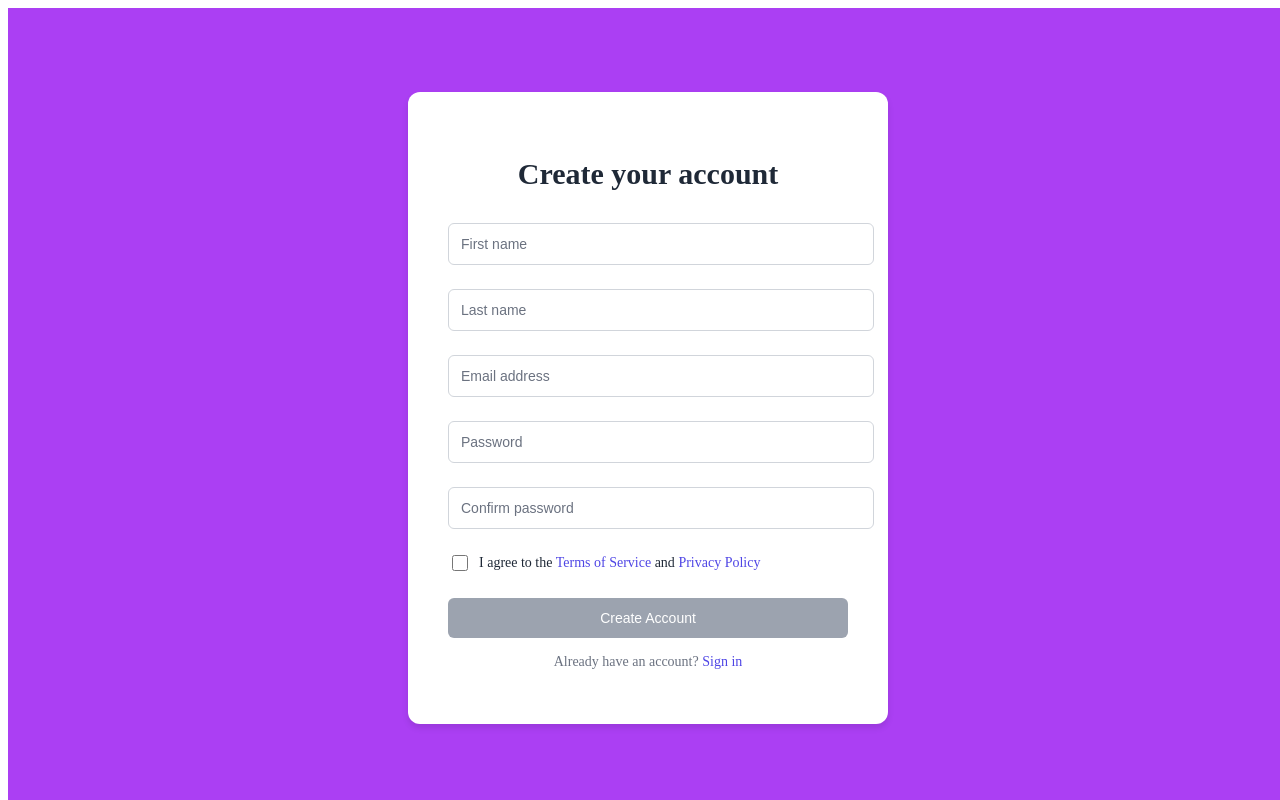
it: Testing -> SignupView › should show password mismatch error when passwords do not match
Set different passwords
Type "password123" into the password field named "password" at coordinates (661, 442), box [448, 421, 874, 463]
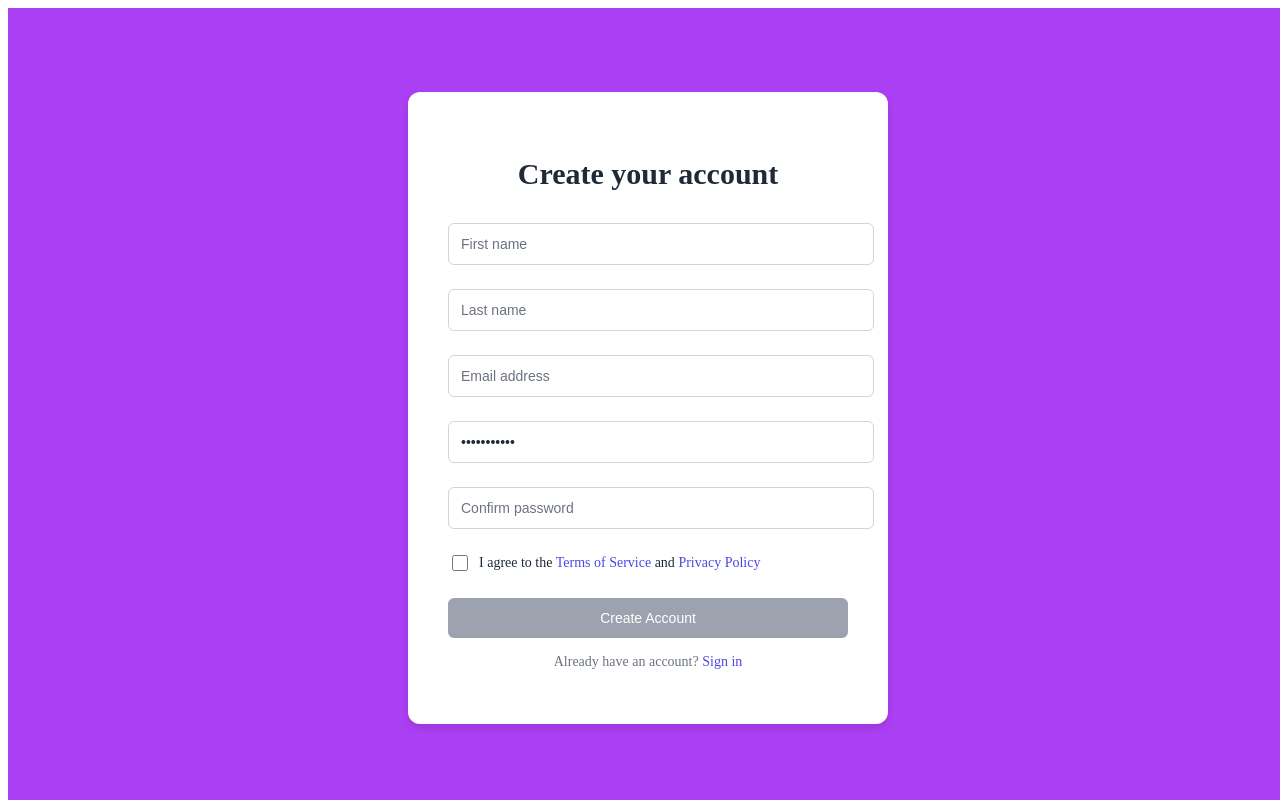
Type "different" into the password field named "confirmPassword" at coordinates (661, 508), box [448, 487, 874, 529]
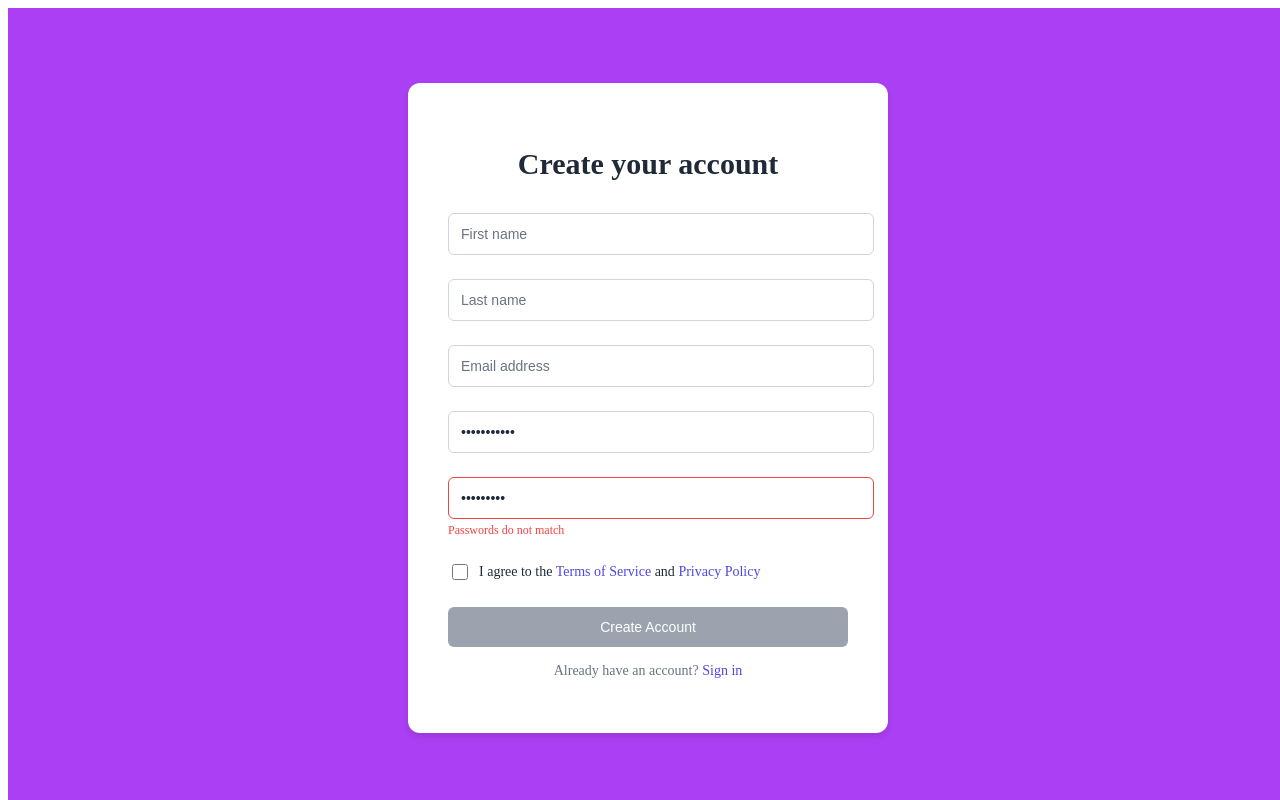
Result: the text with class "error-message" reads "Passwords do not match" at [448, 523, 564, 537]
